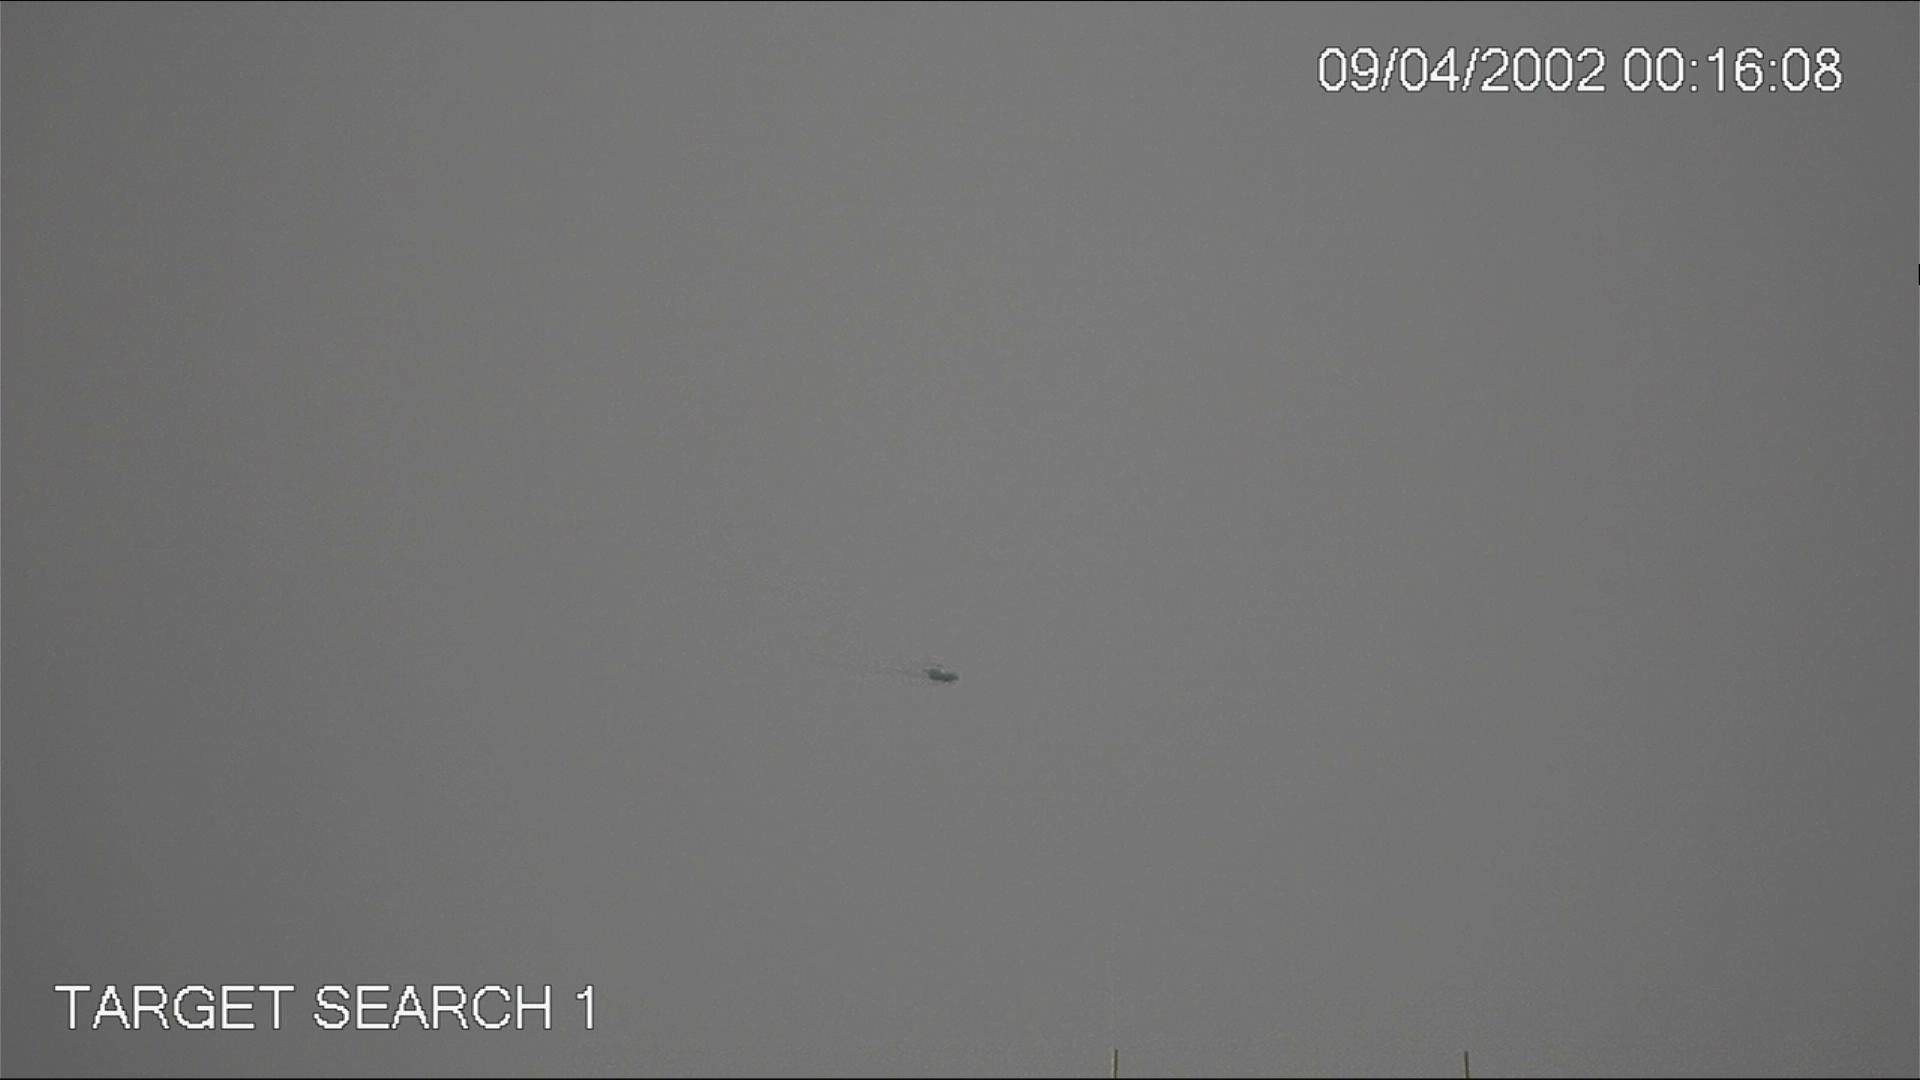SU_30: (924, 665, 963, 684)
